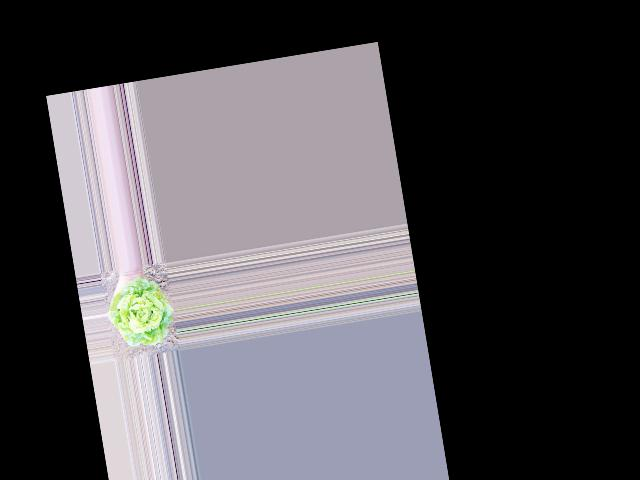lettuce: (105, 277, 177, 352)
